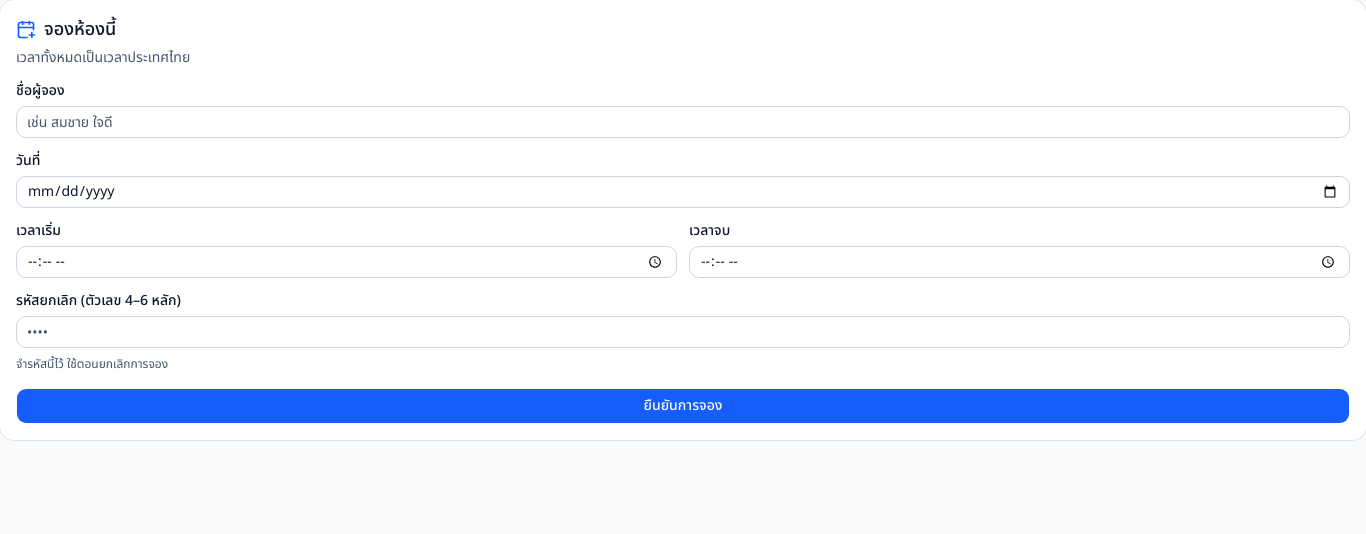
Test: BookingForm › says who already holds the slot when the API answers 409
This screenshot has width=1366, height=534.
Type "สมชาย" into the field labelled "ชื่อผู้จอง" at (683, 122), box [16, 106, 1350, 138]
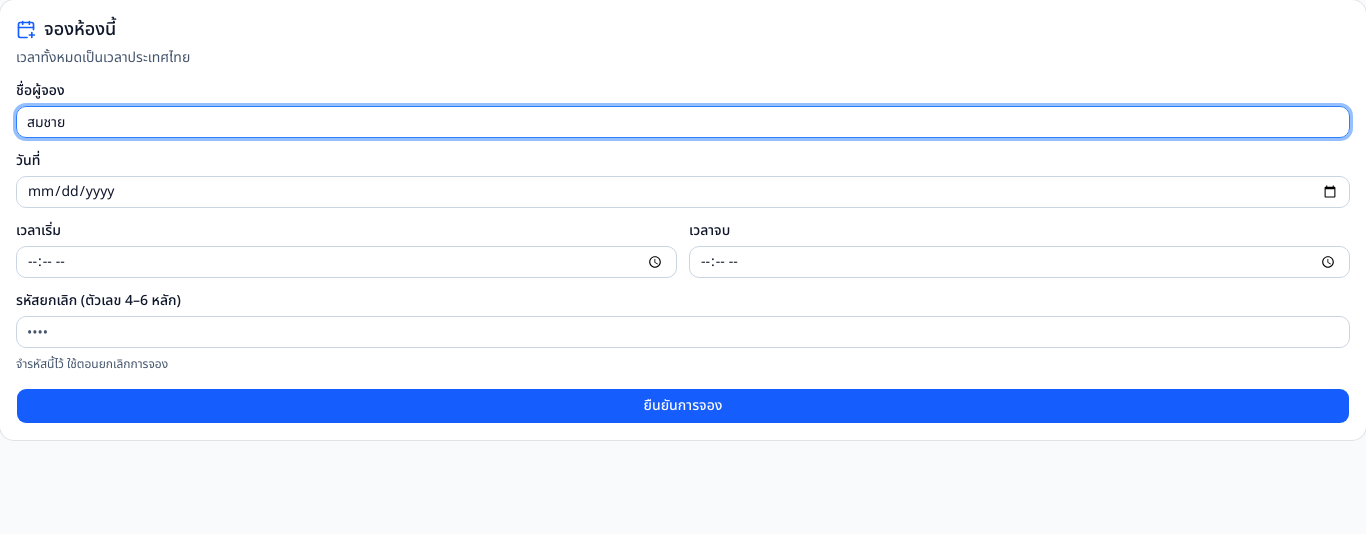
Type "2030-01-15" into the date field labelled "วันที่" at (683, 192), box [16, 176, 1350, 208]
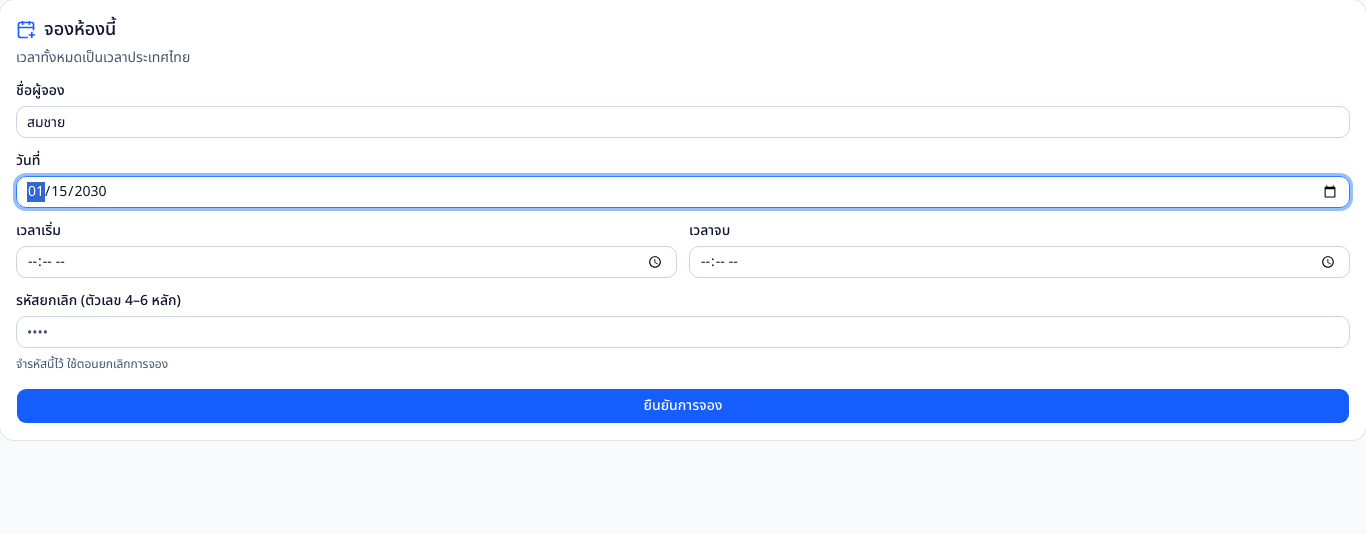
Type "10:00" into the time field labelled "เวลาเริ่ม" at (346, 262), box [16, 246, 677, 278]
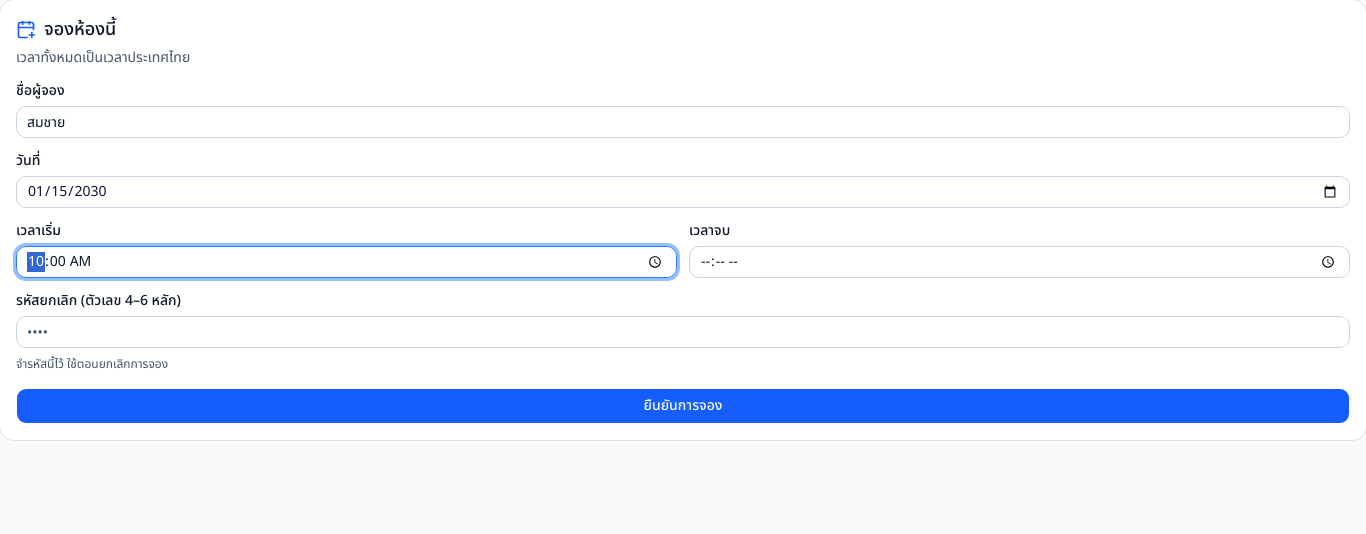
Type "11:30" into the time field labelled "เวลาจบ" at (1020, 262), box [689, 246, 1350, 278]
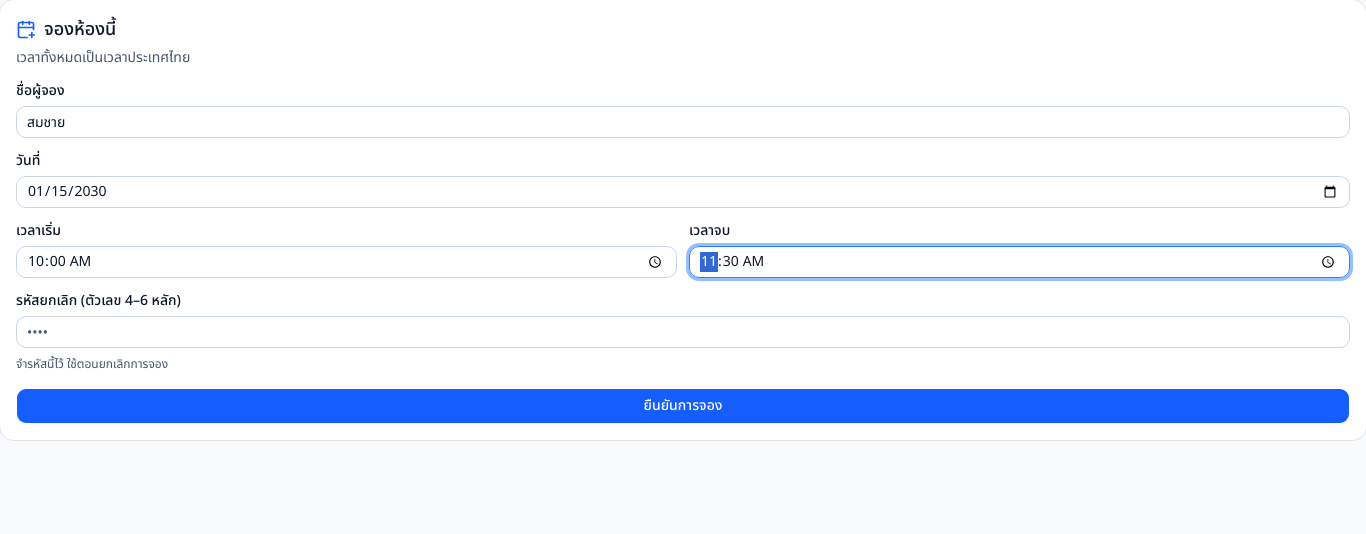
Type "1234" into the password field labelled "รหัสยกเลิก (ตัวเลข 4–6 หลัก)" at (683, 332), box [16, 316, 1350, 348]
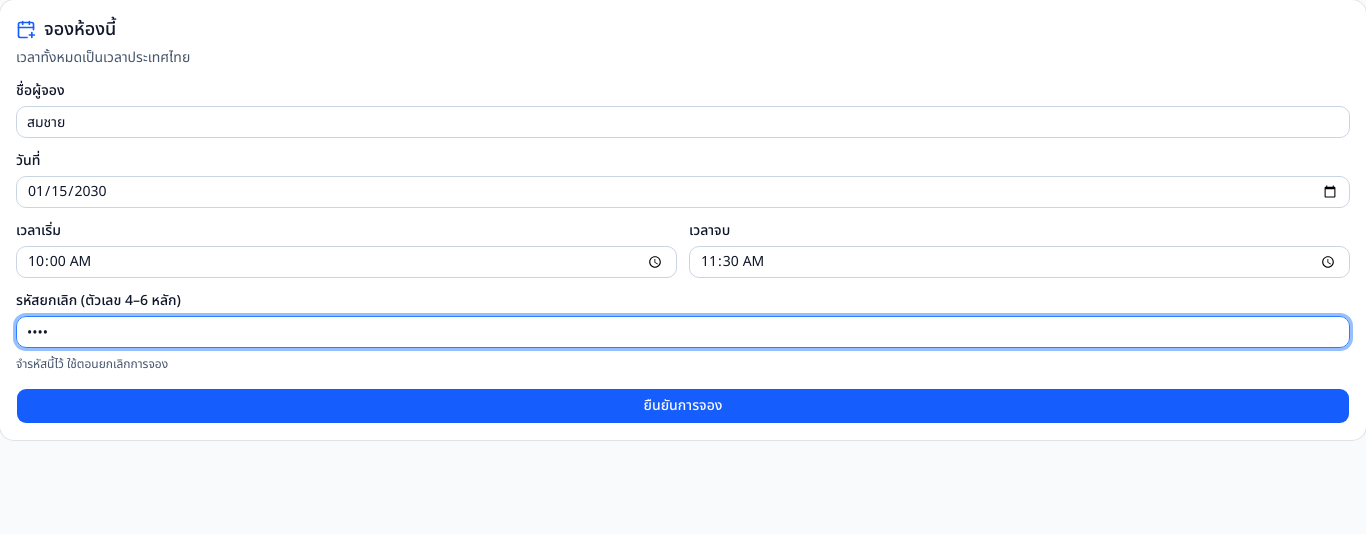
Click the button "ยืนยันการจอง" at (683, 406), box [16, 388, 1350, 424]
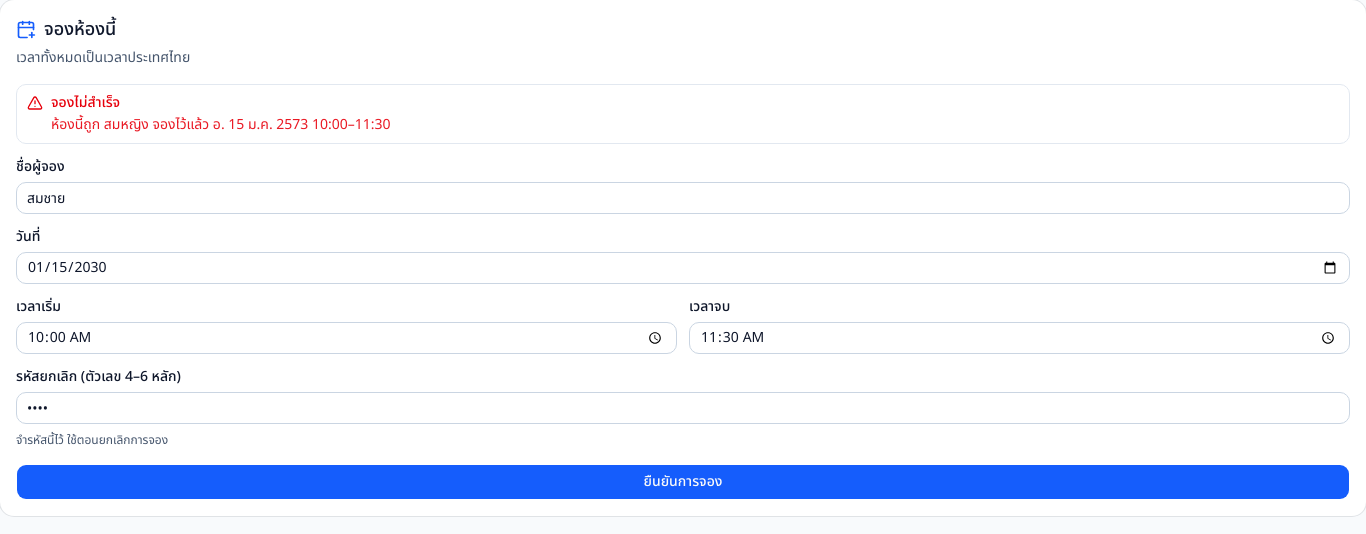
Now the text "ห้องนี้ถูก สมหญิง จองไว้แล้ว อ. 15 ม.ค. 2573 10:00–11:30" is shown, box [51, 114, 390, 135]
